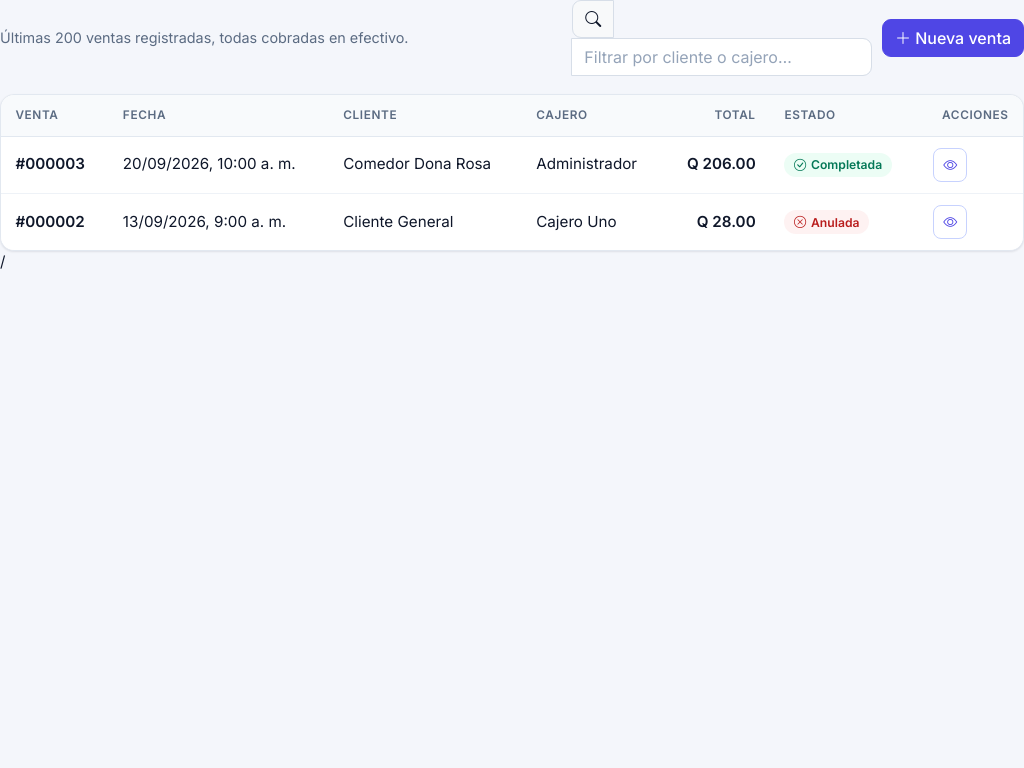
Historial de ventas › el detalle de la venta muestra productos, descuento y total en efectivo
Click the button named "Ver detalle de la venta 3": (950, 165) [933,148,967,182]
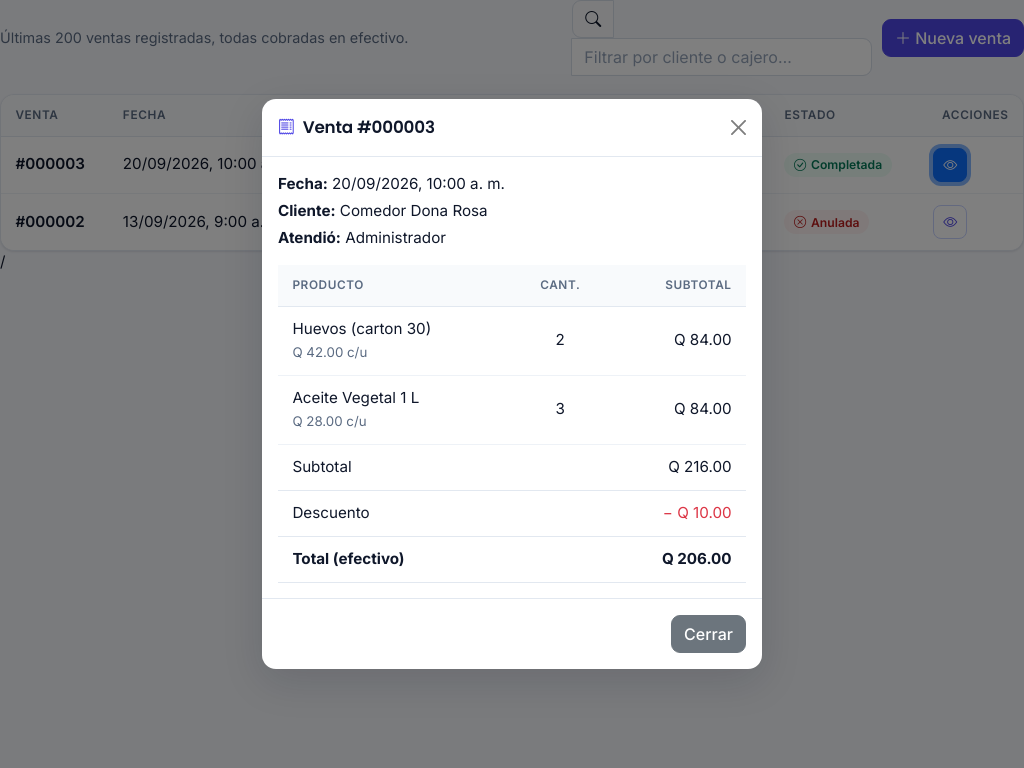
Expected: the heading "Venta #000003" is shown, [278,115,435,140]
Expected: the text "Huevos (carton 30)" is shown, [292,319,431,338]
Expected: the text "− Q 10.00" is shown, [608,490,746,536]
